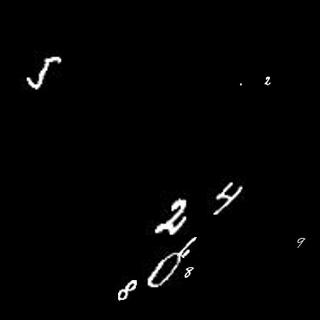dot: (238, 80, 243, 86)
eight: (116, 277, 139, 303), (182, 265, 195, 279)
five: (23, 51, 64, 93)
four: (209, 177, 247, 218)
nine: (295, 236, 306, 253)
six: (177, 233, 203, 259)
two: (150, 197, 192, 238), (262, 72, 273, 87)
zero: (145, 252, 181, 288)
